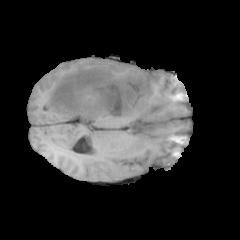glioma: (44, 65, 174, 140)
